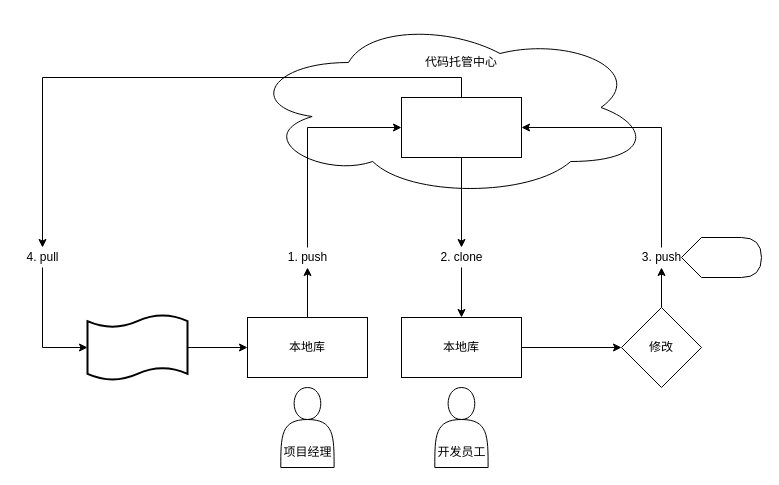
Some shapes in this 779 by 485 pixel diagram are drawn without their labels. The shapes that lost their labels are listed below. From the top down, each one's centre as x and y in pixels, then its label:
At [461,127]: "远程库".
At [721,257]: "加入团队".
At [137,347]: "更新".
